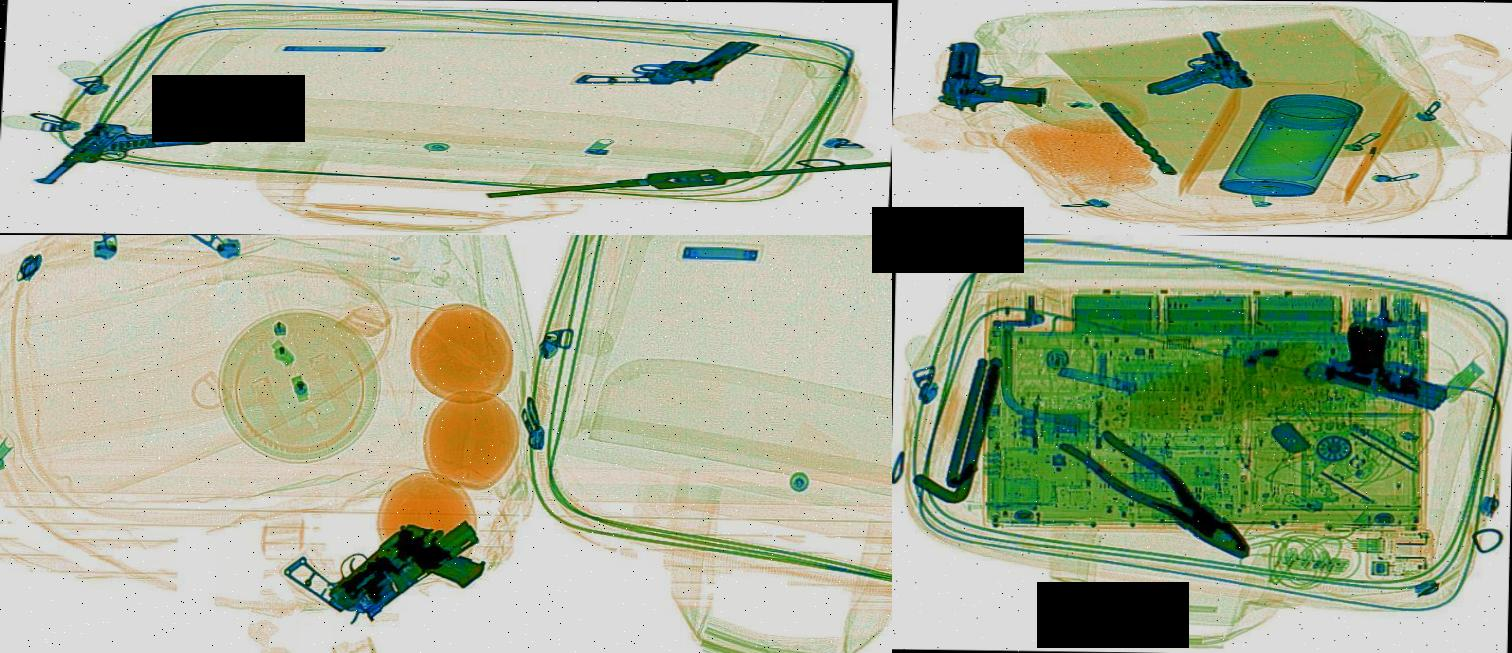Gun: (241, 497, 494, 622), (290, 515, 526, 628), (1308, 315, 1480, 411), (26, 122, 221, 191), (567, 29, 768, 94), (1107, 28, 1260, 97), (937, 40, 1051, 112)
Pliers: (1048, 419, 1279, 568)
